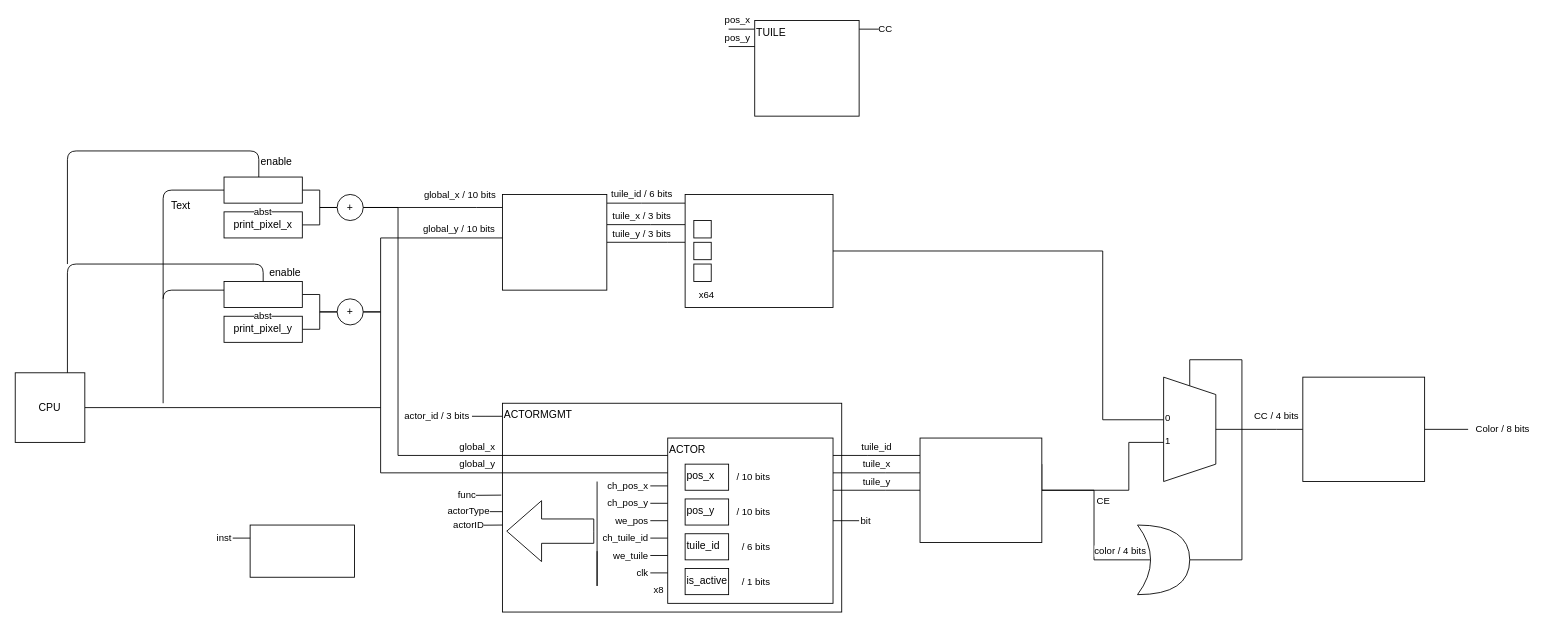
Image size: 1553x627. Some labels were removed from this diagram. Here are the shapes that lost their labels. From the top down, the box of each, then its label:
(223, 176, 302, 203): offset_x
(502, 194, 607, 290): BACKBUFF 128 x 128 x 6 bits
(684, 194, 833, 308): BacTuileBuffer
(223, 281, 302, 308): offset_y
(1302, 376, 1425, 482): ColorConverter
(919, 437, 1042, 542): ActorTuileBuffer
(249, 524, 355, 577): CTRL
